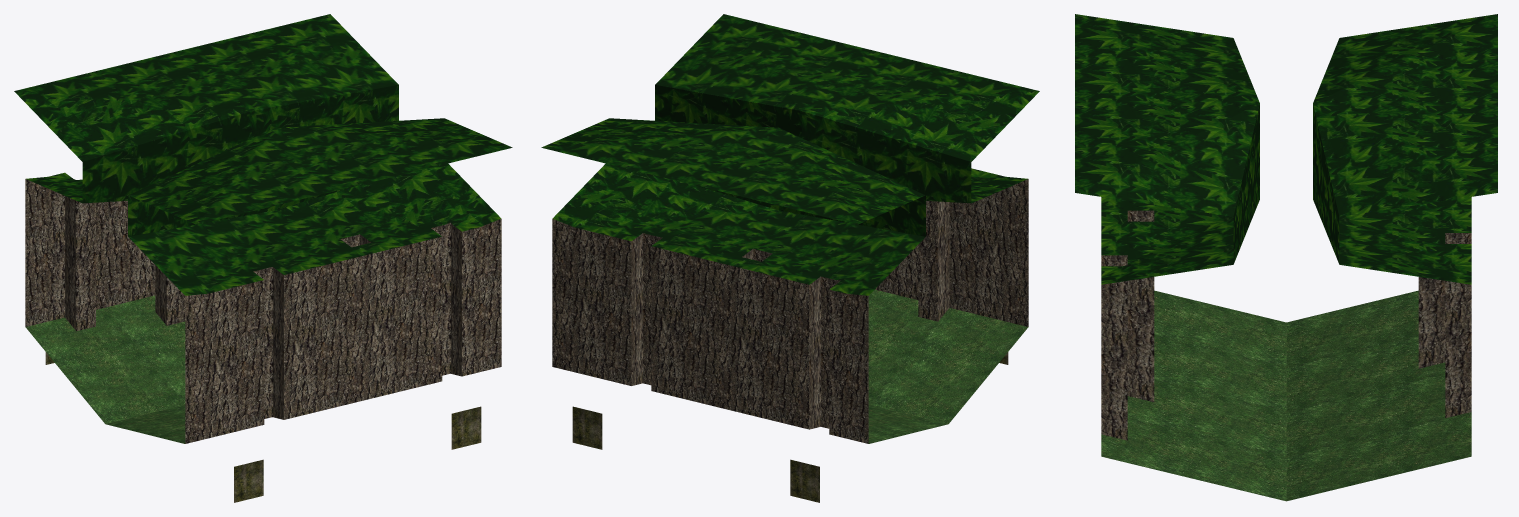
Rendered from woods3Trim.gltf.
3 views of the same model, side by side, from view 1: azimuth 30°, elevation 25°; view 2: azimuth 150°, elevation 25°; view 3: azimuth 270°, elevation 25° (orthographic). The views are drawn at different scales.
Visible parts, largest first — view 1: woods3Trim; view 2: woods3Trim; view 3: woods3Trim.
Part boxes in pixels (x1,y1,x2,y2): woods3Trim: (14,14,512,502); woods3Trim: (541,14,1039,502); woods3Trim: (1075,14,1497,501).
Size of the model in its own units: 32 by 27.5 by 33.
4 materials, 4 textured.
